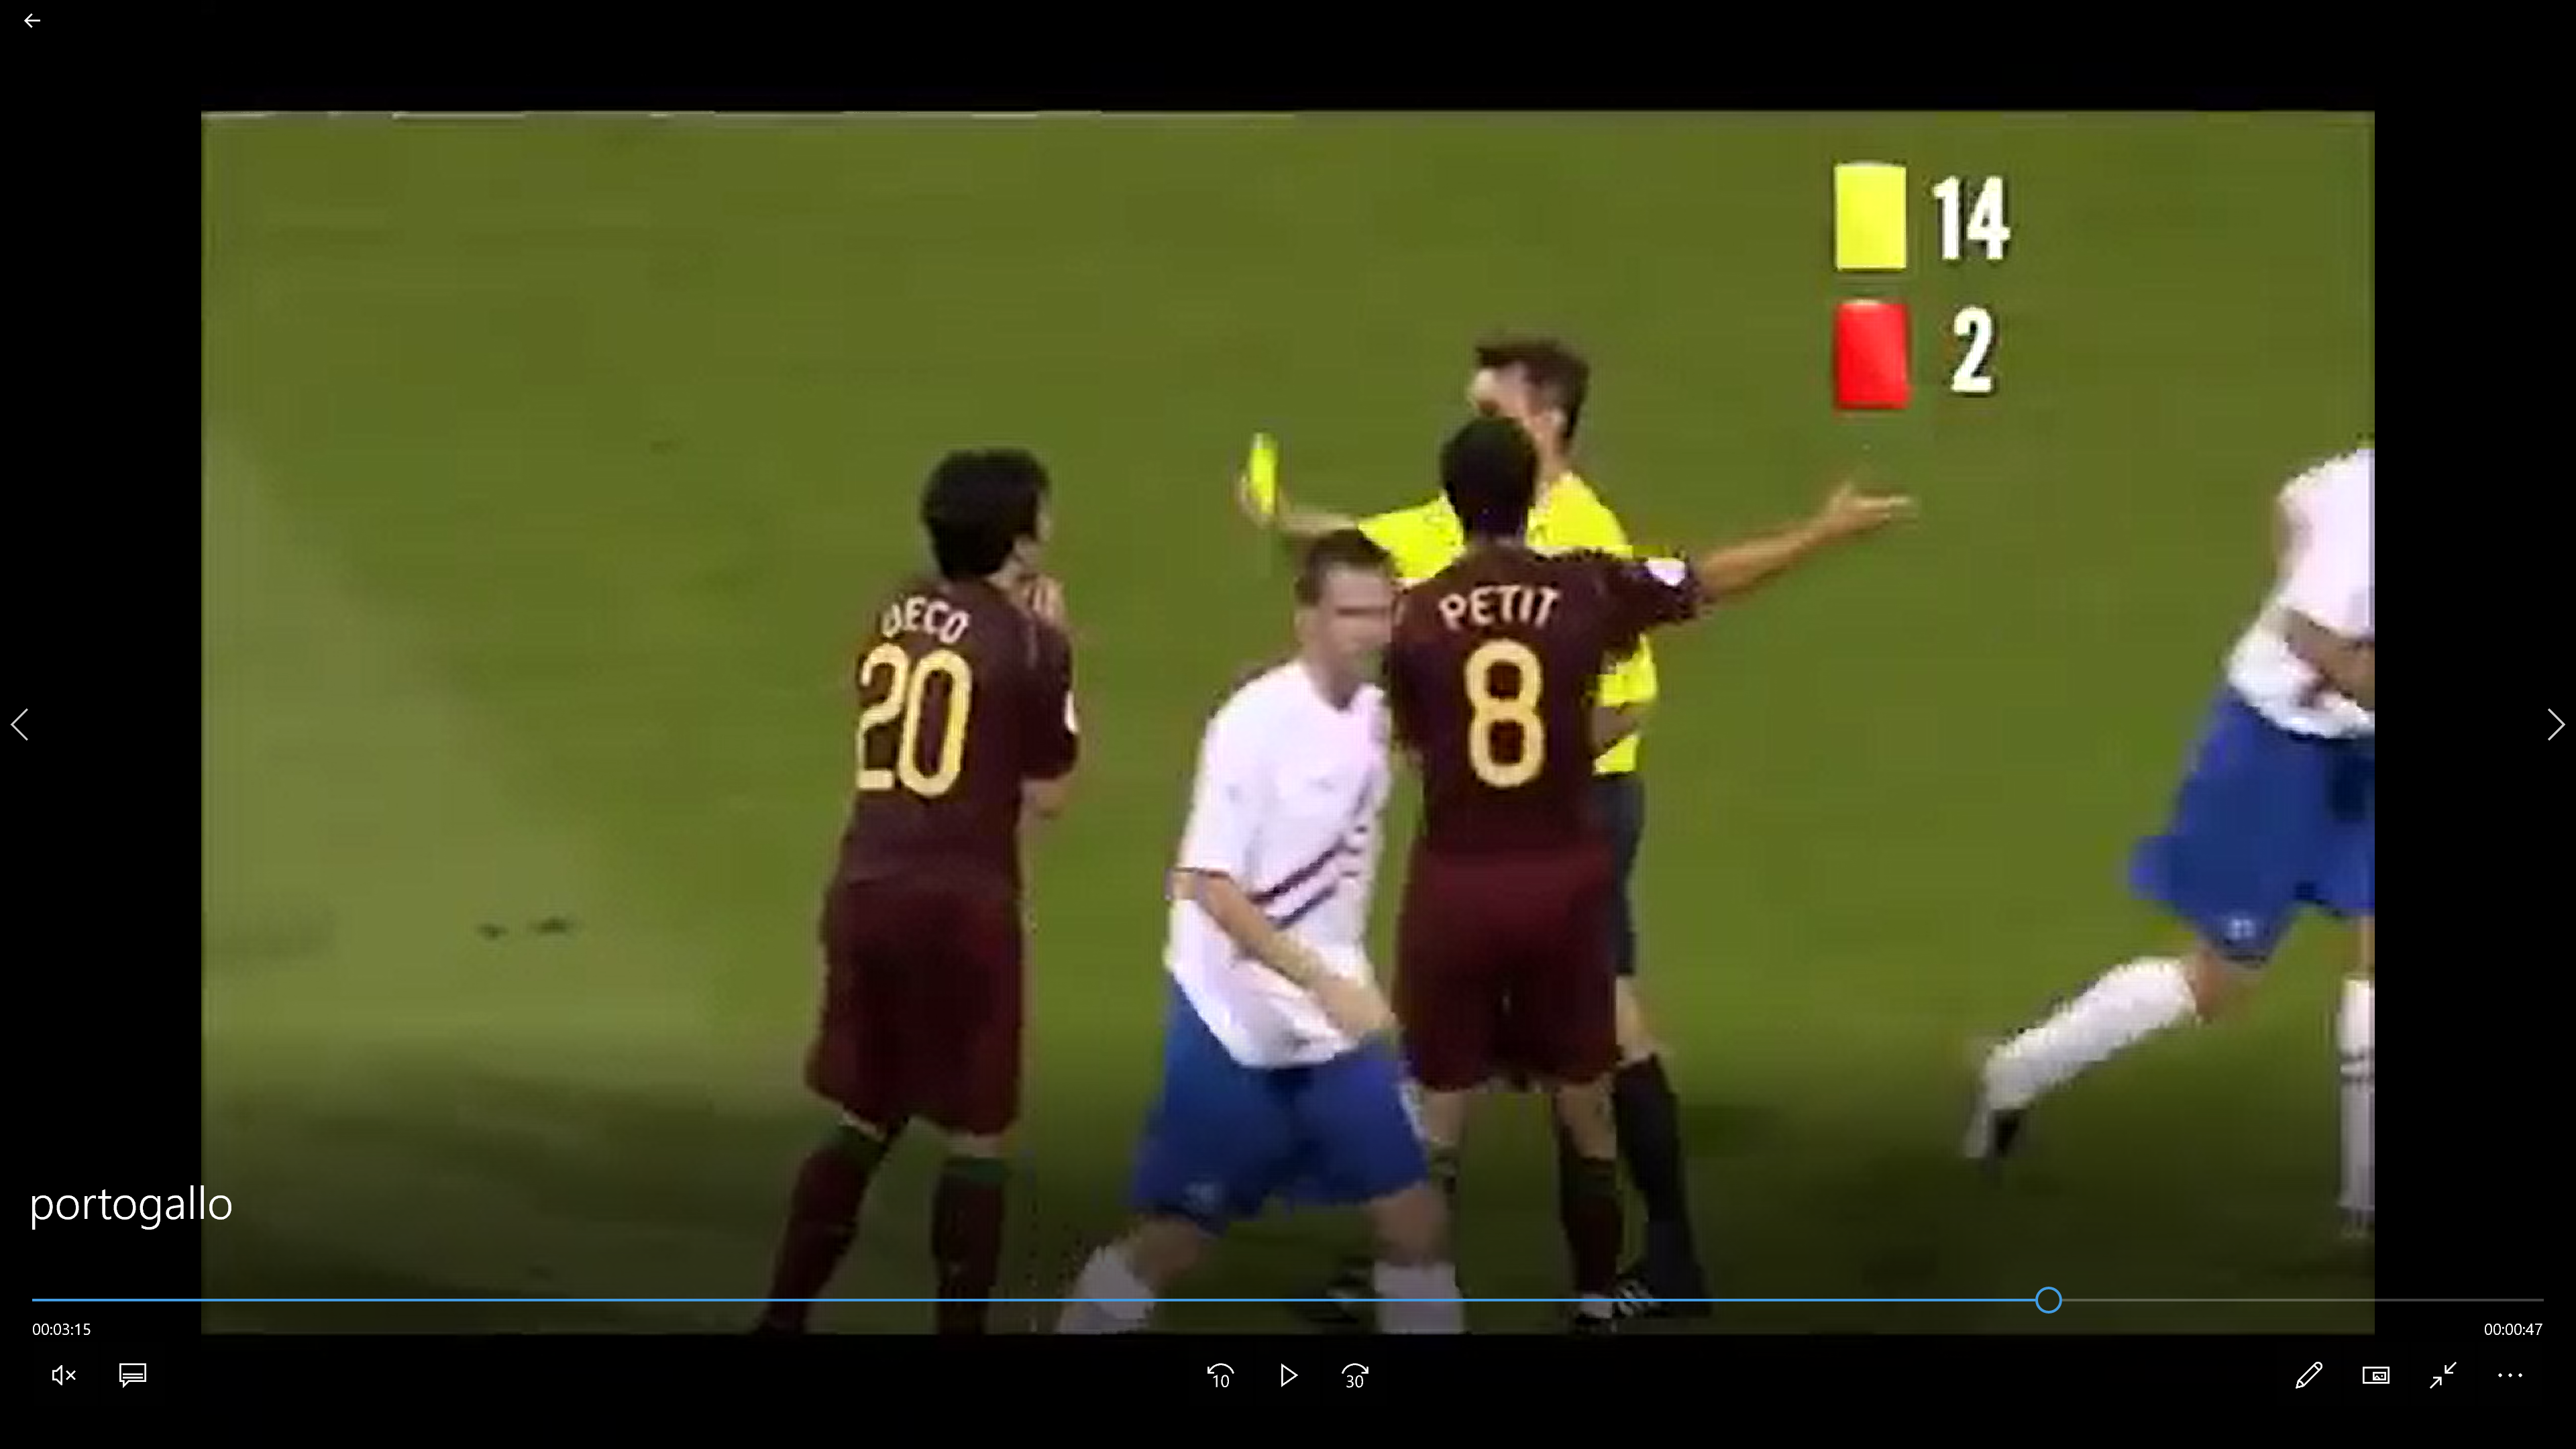yellow_card: (1214, 419, 1292, 536)
